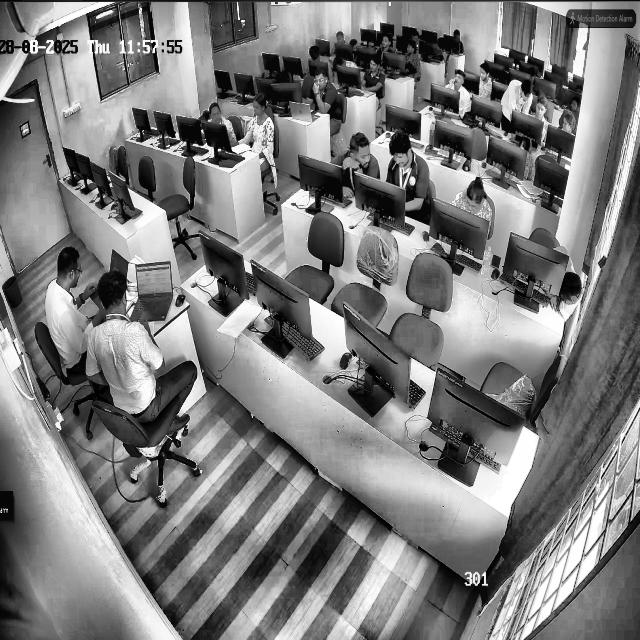Focus: (93, 265, 142, 320), (52, 245, 87, 302), (464, 180, 494, 228), (388, 132, 422, 170), (207, 97, 230, 135), (247, 88, 270, 126), (516, 79, 535, 107), (535, 94, 550, 126), (364, 55, 383, 79), (478, 65, 493, 90), (334, 26, 346, 49)
Not Focus: (347, 130, 376, 173), (312, 70, 335, 98), (451, 65, 467, 104), (560, 106, 576, 140), (404, 38, 417, 62), (381, 31, 392, 52)
